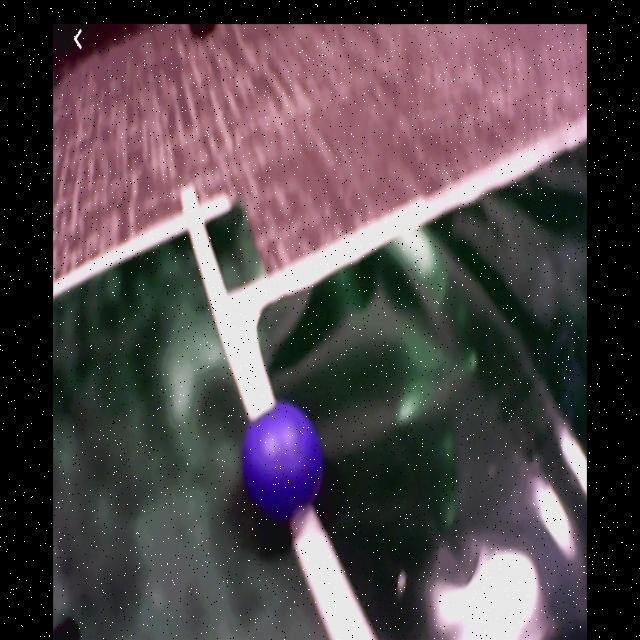ball: (246, 405, 321, 515)
